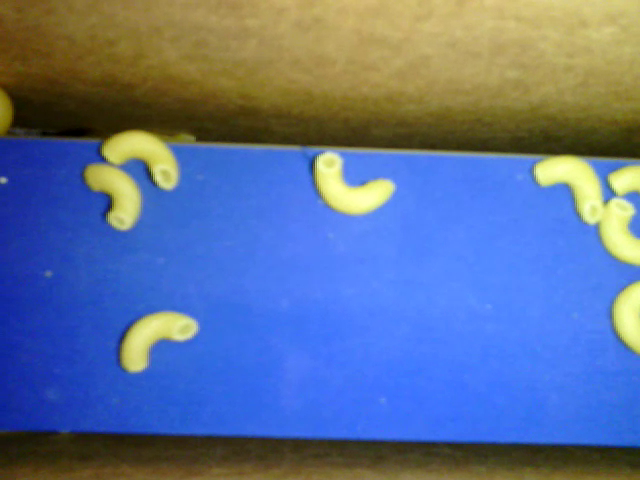elbow: (312, 151, 398, 220), (531, 154, 605, 229), (98, 130, 183, 195), (119, 310, 199, 375), (83, 161, 143, 232), (600, 197, 639, 271), (607, 160, 639, 197)
